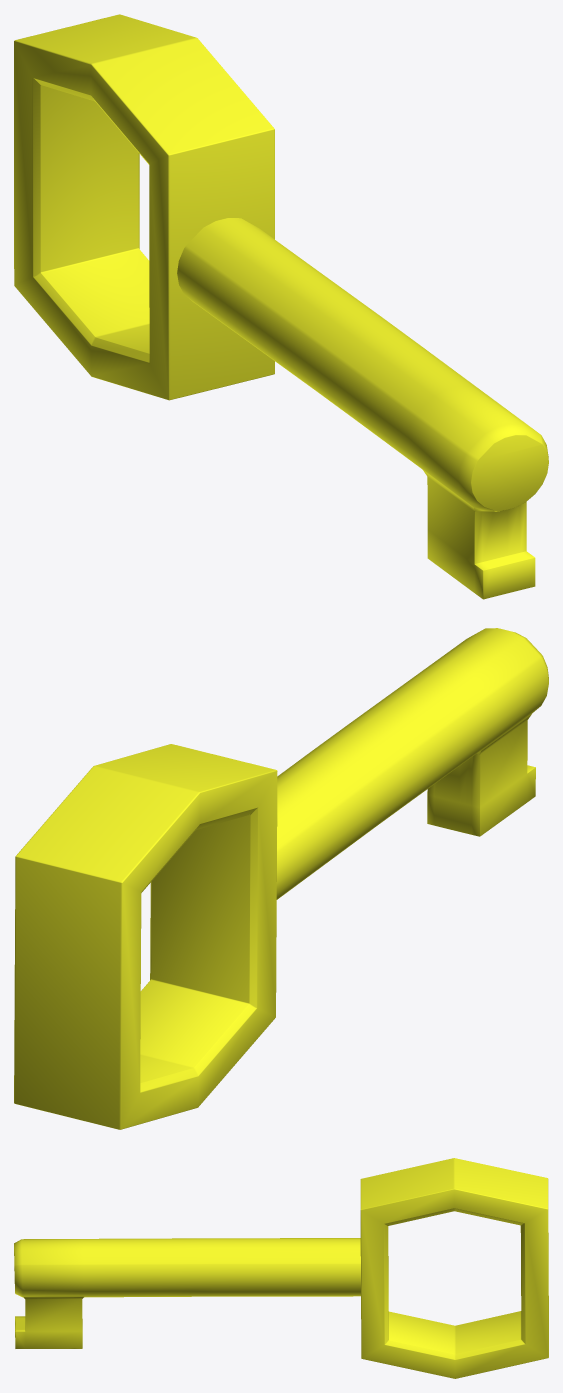
The model's file is Key2.fbx.
3 views of the same model, one above another, from view 1: azimuth 30°, elevation 25°; view 2: azimuth 150°, elevation 25°; view 3: azimuth 270°, elevation 25° (orthographic). The views are drawn at different scales.
Visible parts, largest first — view 1: key_02; view 2: key_02; view 3: key_02.
Boxes of the visible parts, left/top/right/bottom form: key_02: left=14, top=14, right=548, bottom=599; key_02: left=14, top=628, right=548, bottom=1129; key_02: left=14, top=1158, right=548, bottom=1378.
Bounding box in the file's own units: 60.25 × 168 × 428.
